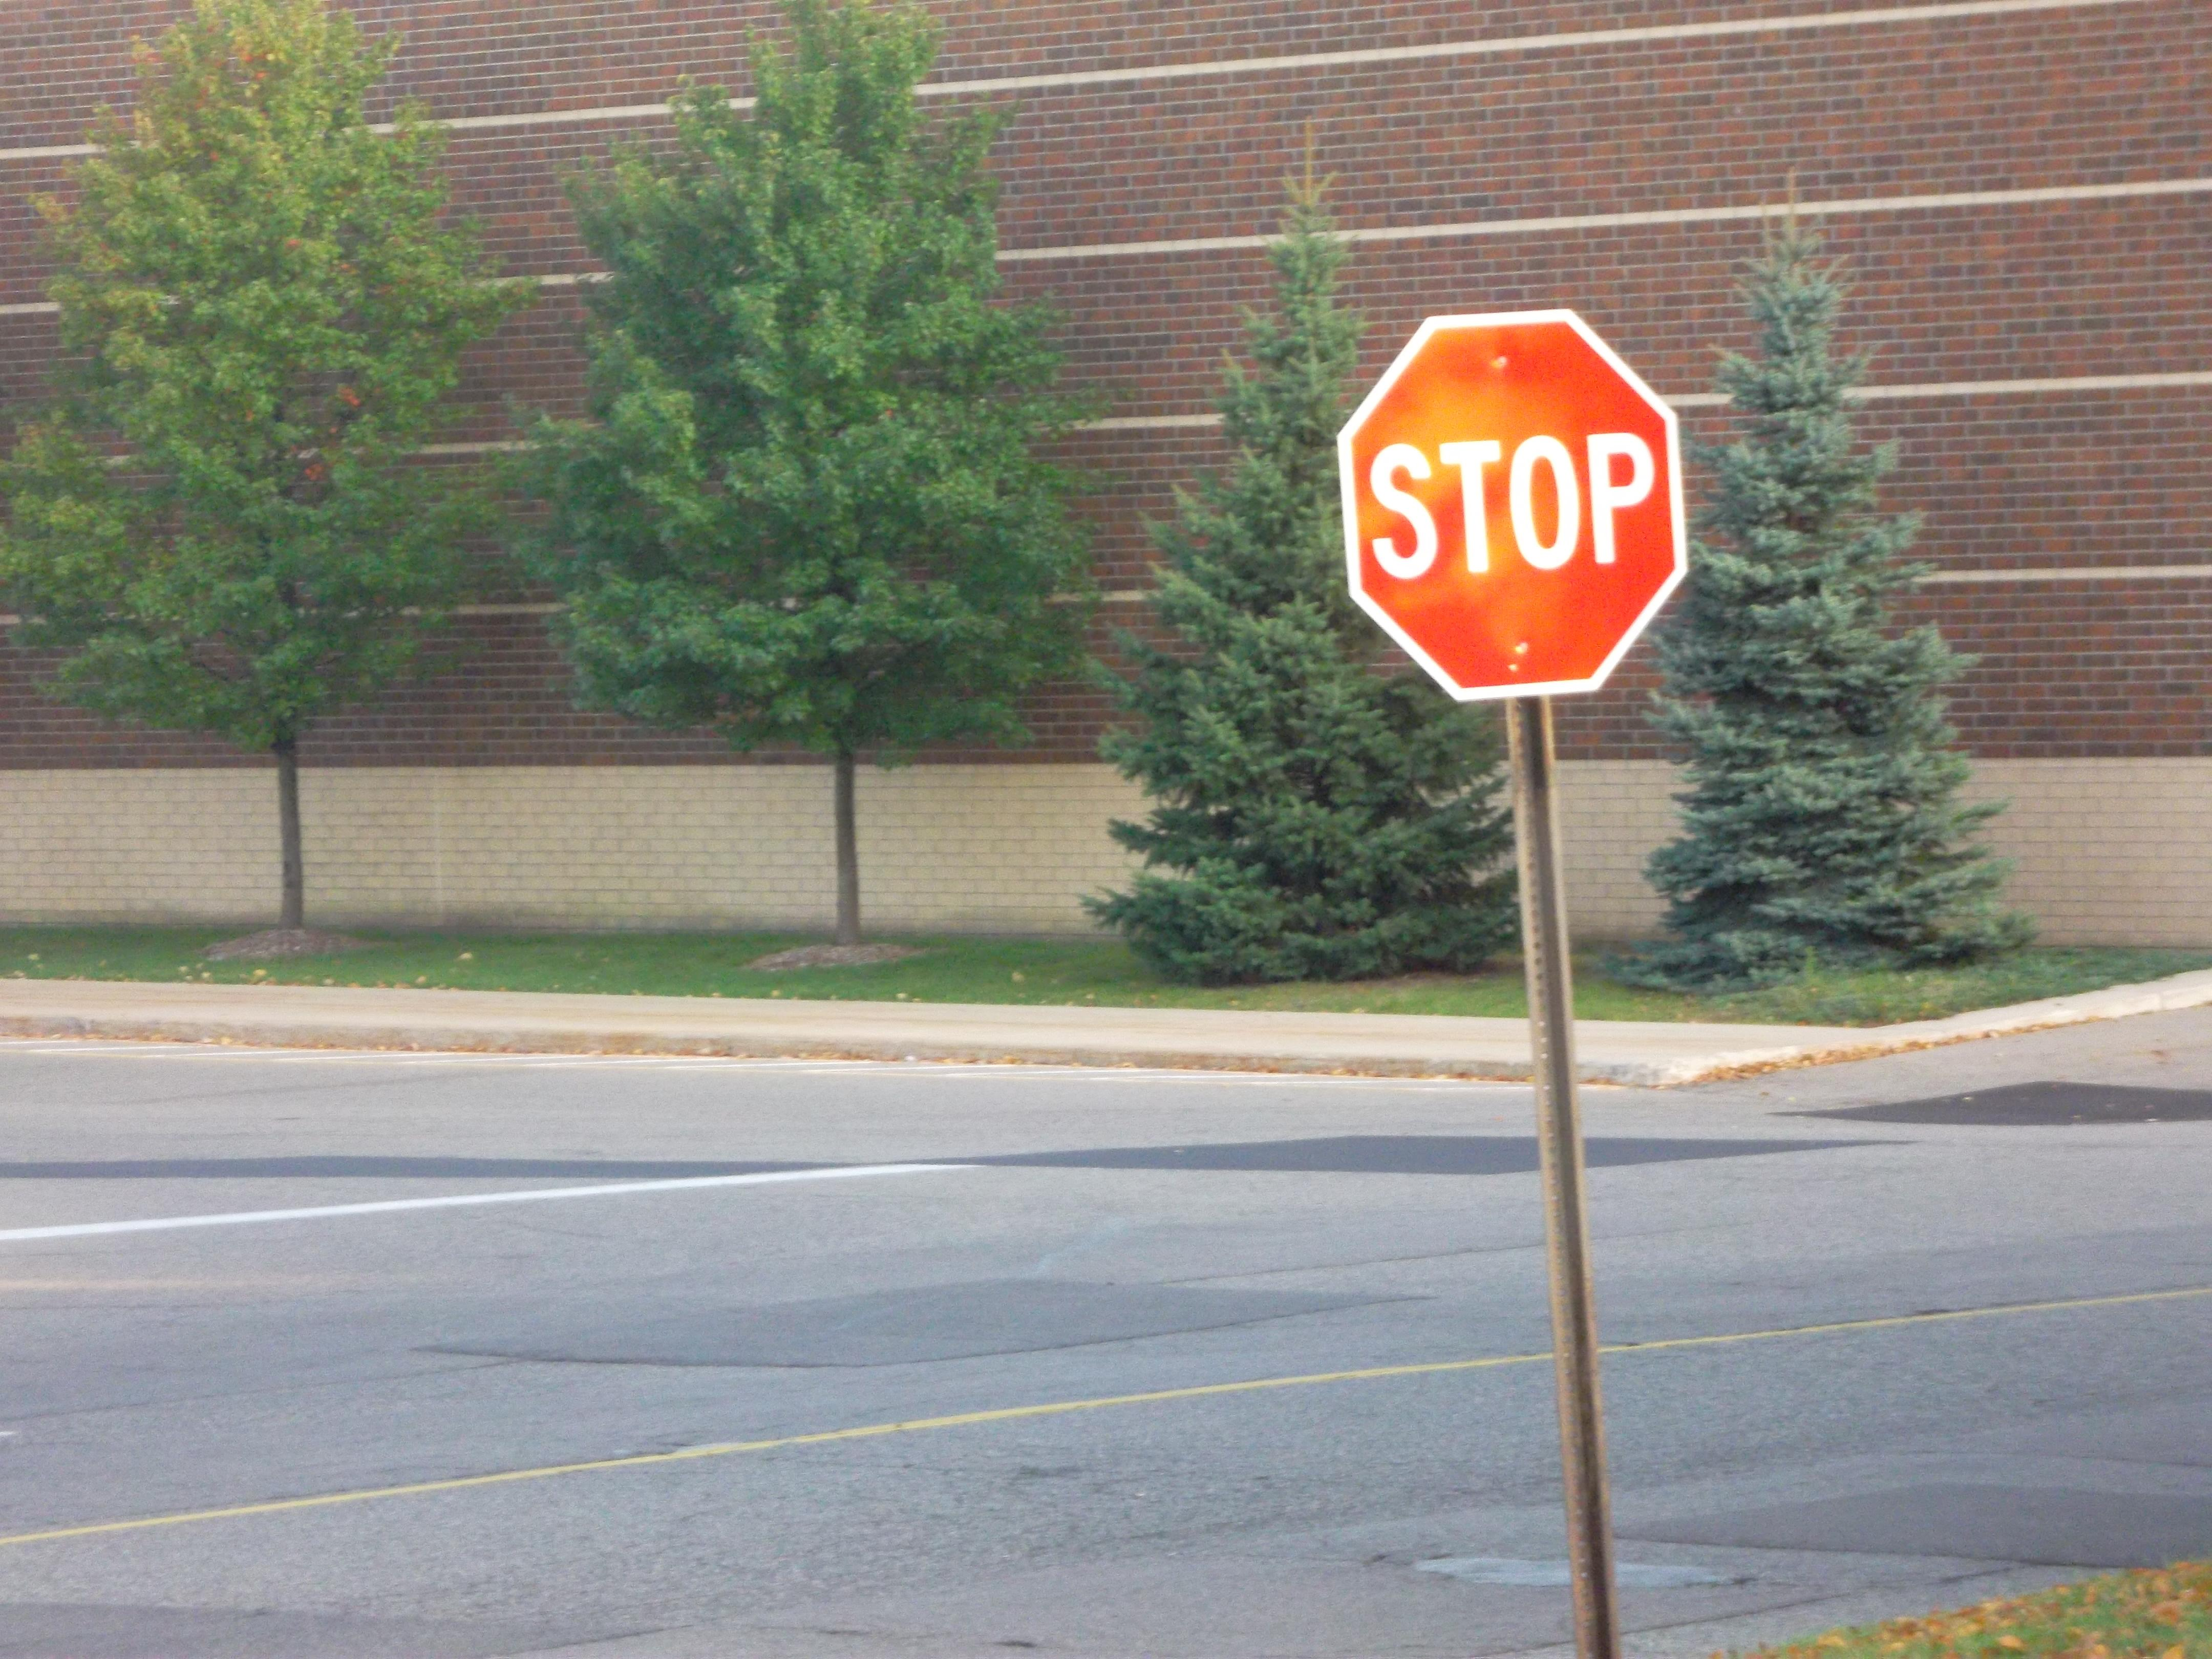stop: (1317, 298, 1705, 708)
